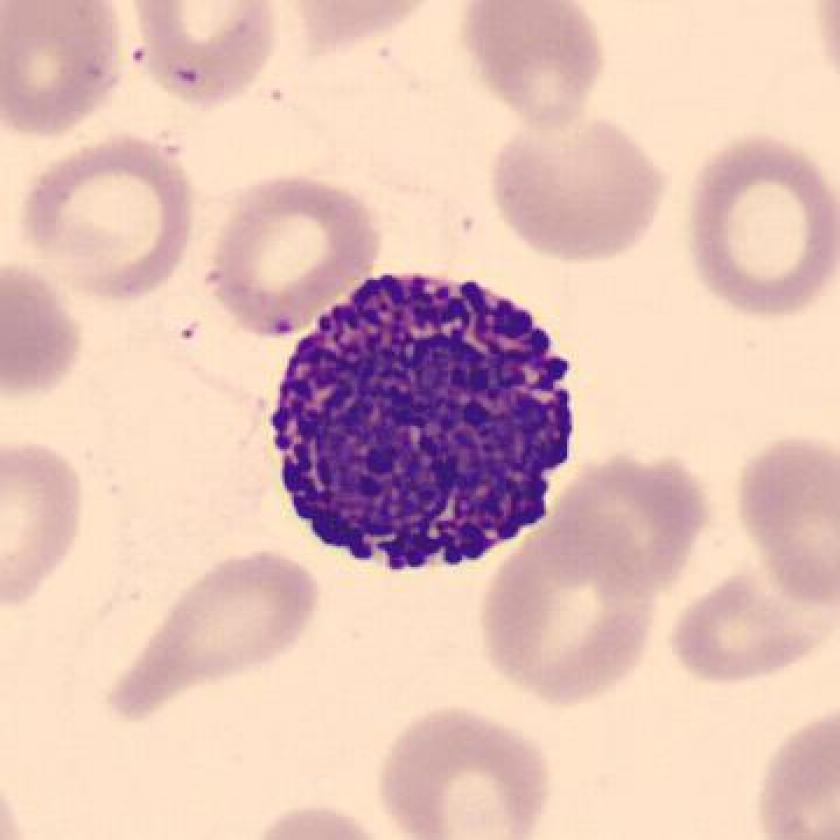basophil: (255, 258, 589, 579)
